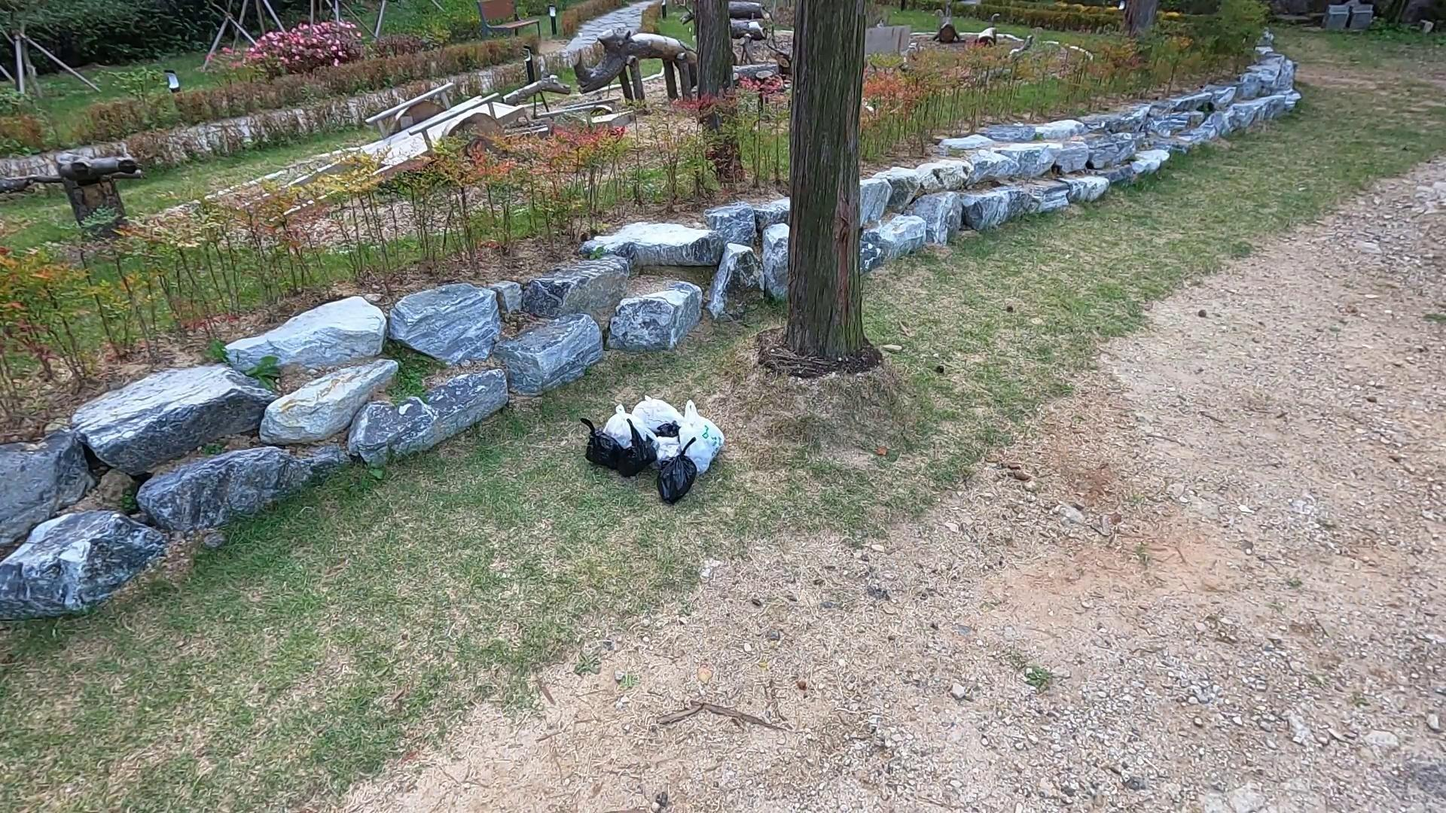trash: (679, 397, 725, 474), (633, 393, 686, 458), (603, 405, 657, 457), (657, 438, 697, 503), (620, 418, 657, 479), (581, 417, 620, 470), (657, 417, 679, 439)
